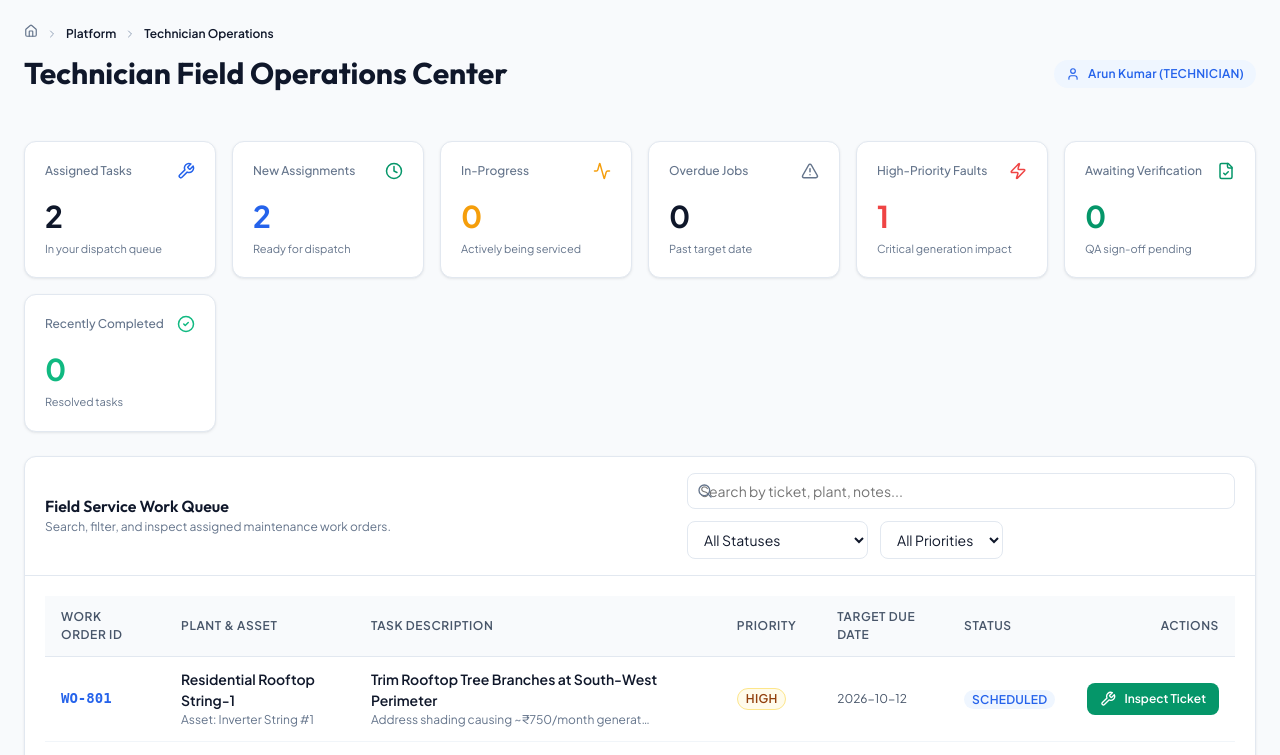
Technician Field Operations Dashboard & Workflow Suite › allows checking safety items and adding replacement parts
Click the button "Inspect Ticket" in the row of "WO-801" at [1153, 698], box [1087,682,1219,714]
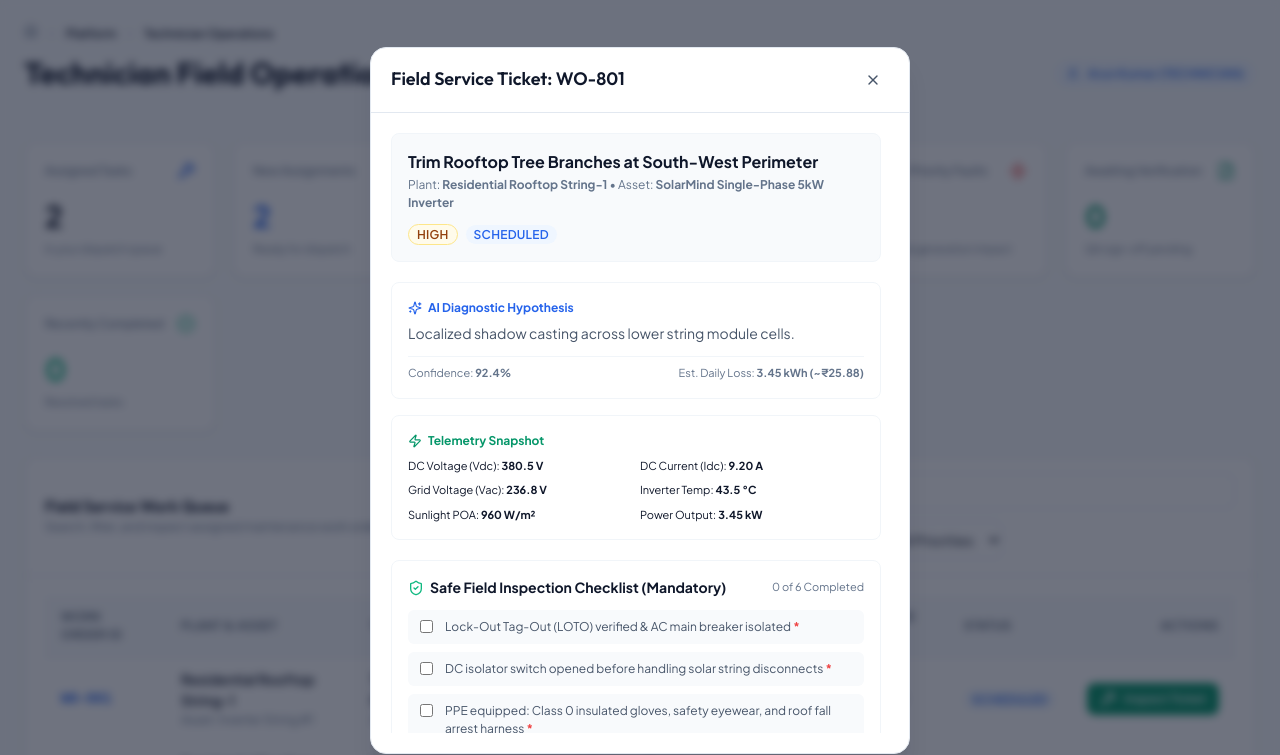
# Check first safety checkbox
Click the 1st checkbox at [426, 627], box [420,620,433,633]
(page scrolled)
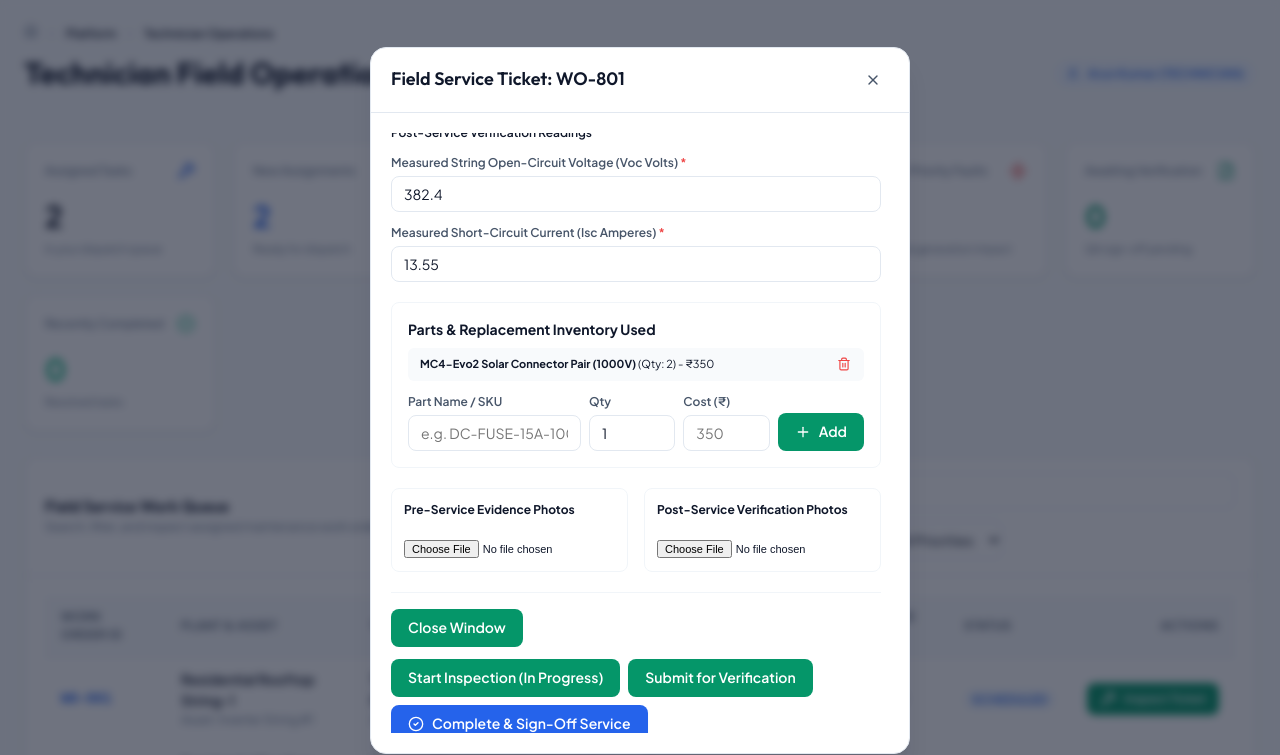
# Add a replacement part
Type "SOLAR-MC4-PAIR" into the field with placeholder "e.g. DC-FUSE-15A-1000V" at [494, 433], box [408,415,581,451]
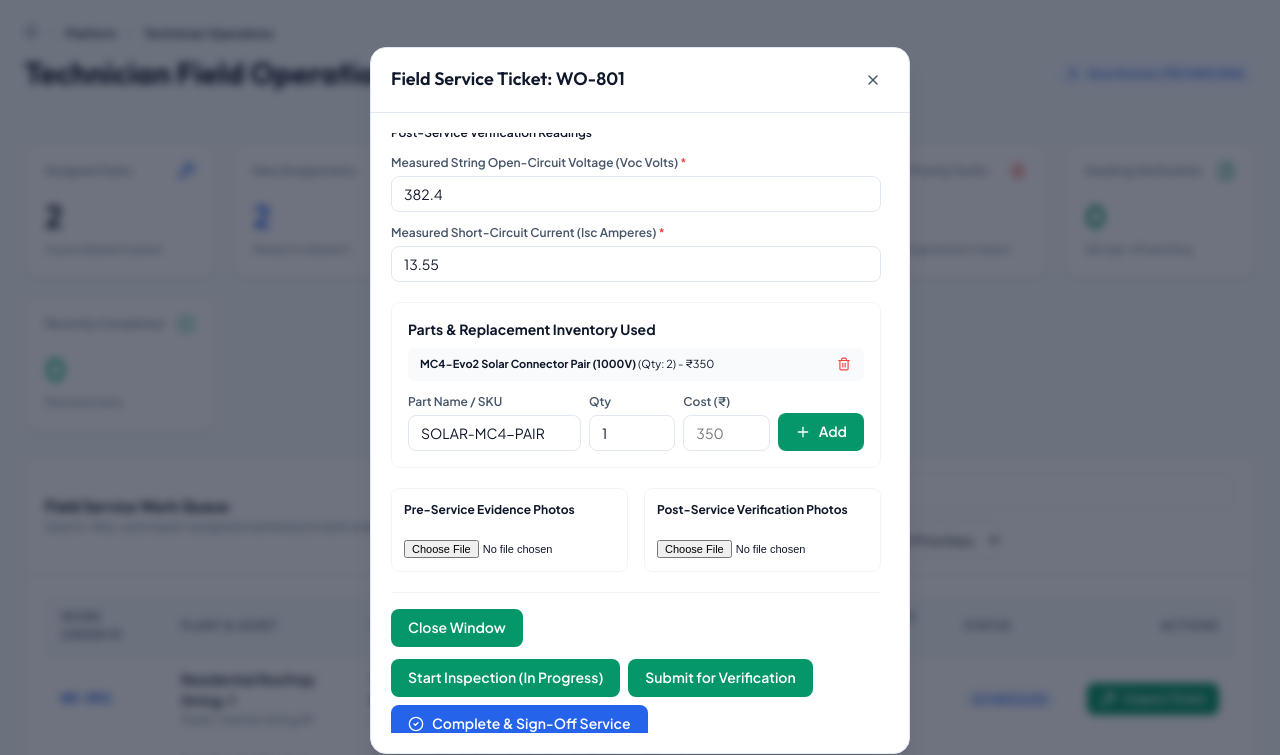
Click the button "Add" at [821, 432], box [778,413,864,451]
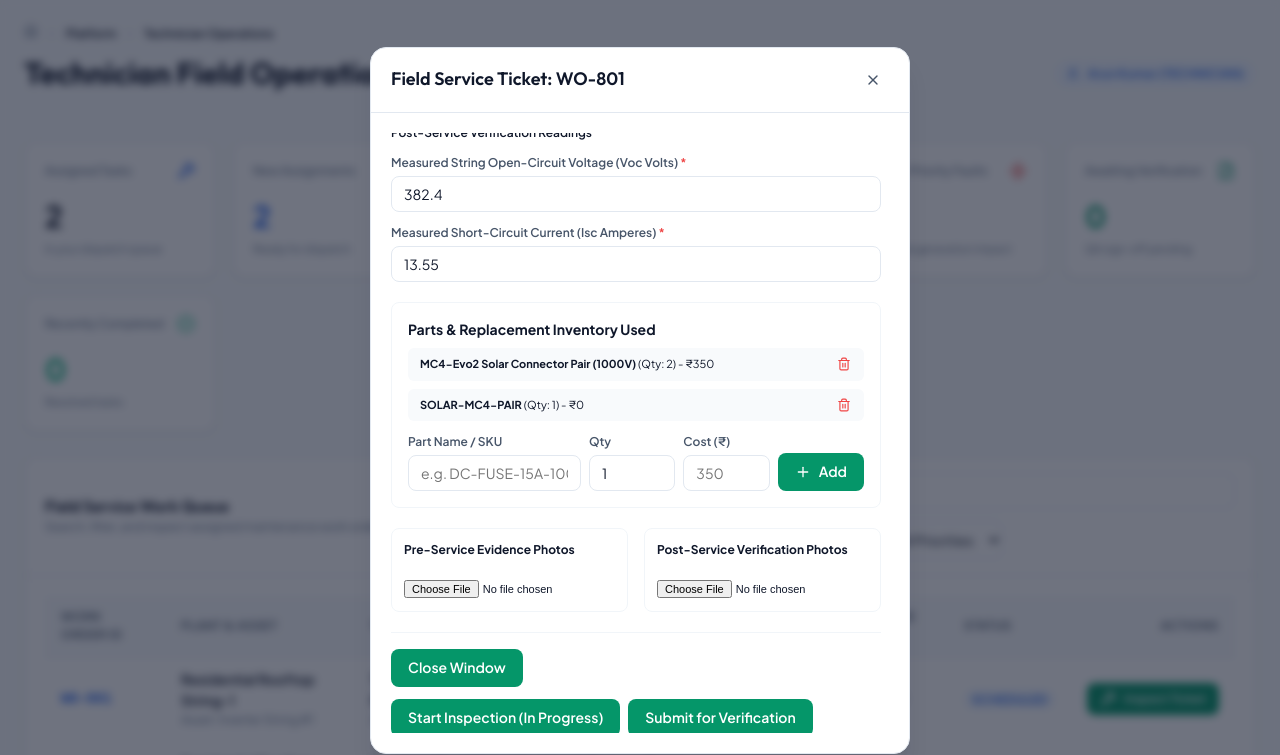
Expected: the text "SOLAR-MC4-PAIR" is shown, [420,398,522,411]
